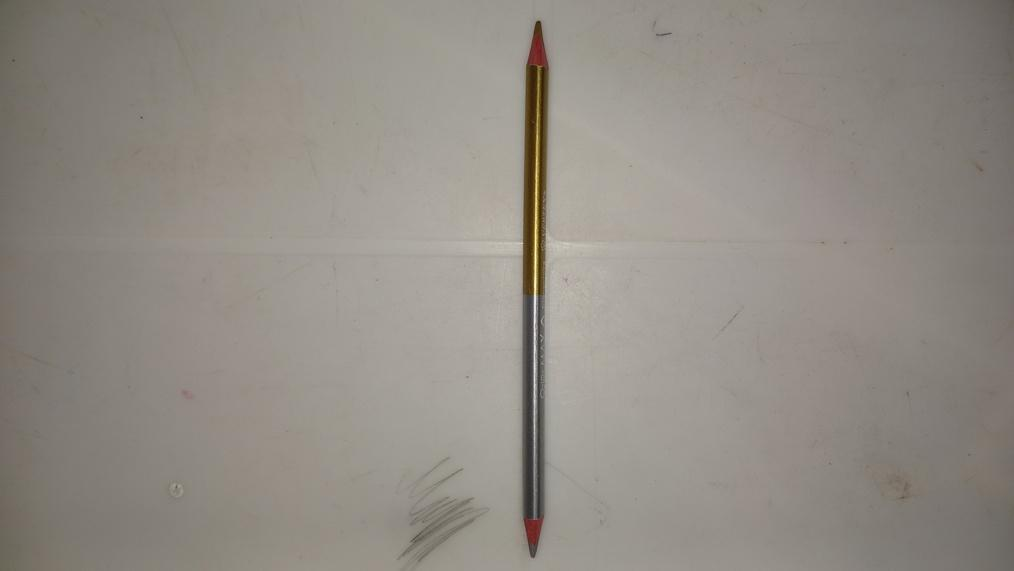Pencil: (522, 17, 550, 559)
